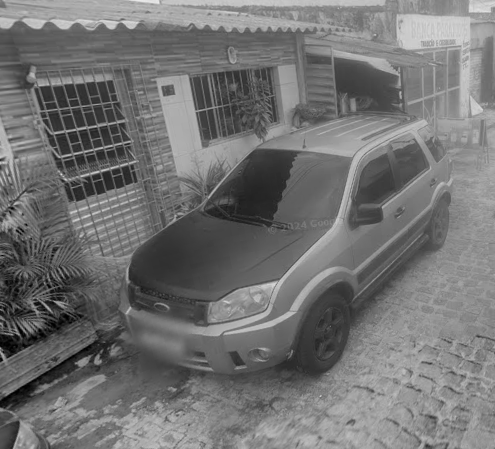car: (115, 106, 455, 376)
